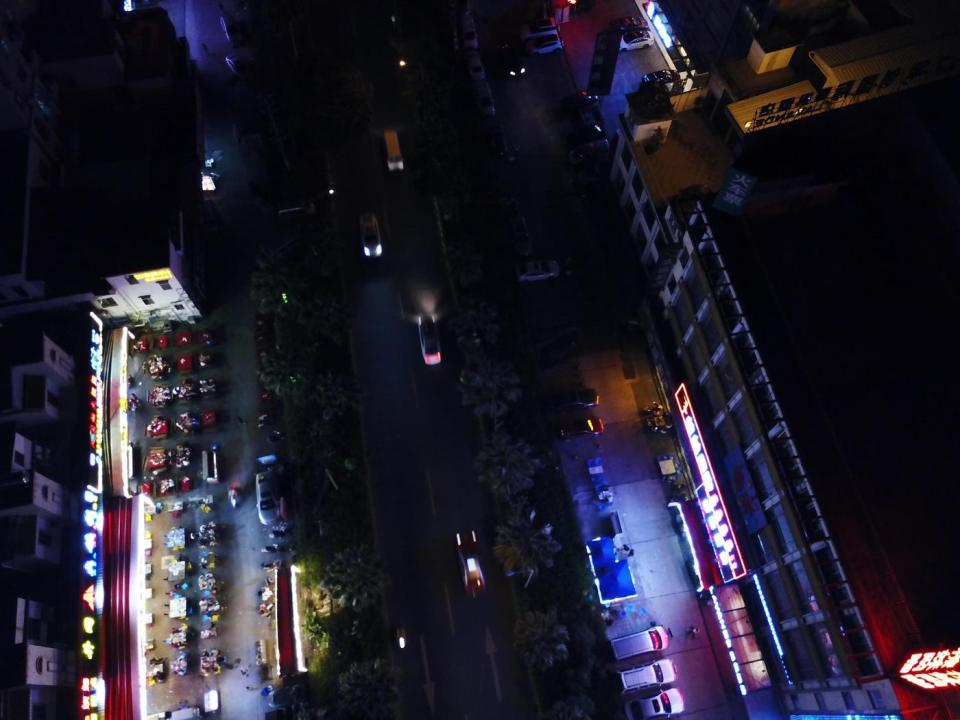car: (614, 658, 679, 696), (454, 530, 486, 598), (416, 312, 443, 366), (551, 388, 600, 414), (514, 258, 560, 285), (560, 88, 600, 118), (358, 212, 384, 258), (578, 159, 622, 186), (557, 415, 604, 440), (508, 213, 534, 257), (568, 138, 611, 164), (518, 16, 560, 42), (565, 124, 606, 148), (525, 34, 565, 58), (472, 79, 496, 118), (640, 68, 681, 90), (614, 30, 655, 52), (502, 49, 527, 77), (463, 49, 485, 80), (488, 127, 508, 160), (610, 16, 647, 32), (460, 22, 480, 50)
van: (610, 625, 670, 662), (623, 686, 685, 720), (254, 230, 299, 273), (254, 471, 280, 526), (380, 125, 407, 173), (275, 194, 318, 218)
